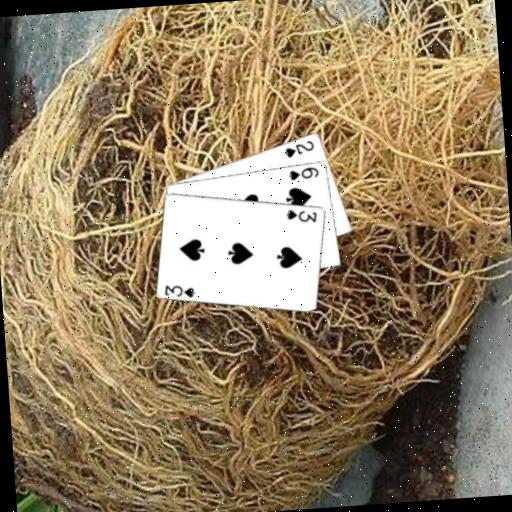2S: (281, 138, 316, 160)
3S: (284, 205, 320, 226), (161, 281, 197, 301)
6S: (286, 163, 321, 182)
